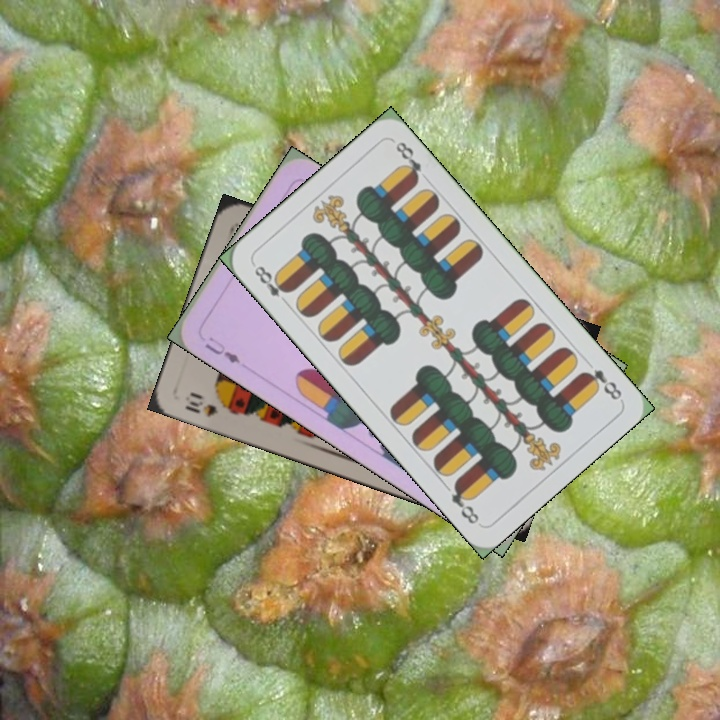E8: (250, 261, 294, 309), (578, 364, 625, 403)
EU: (200, 333, 243, 366)
S10: (180, 388, 235, 419)
